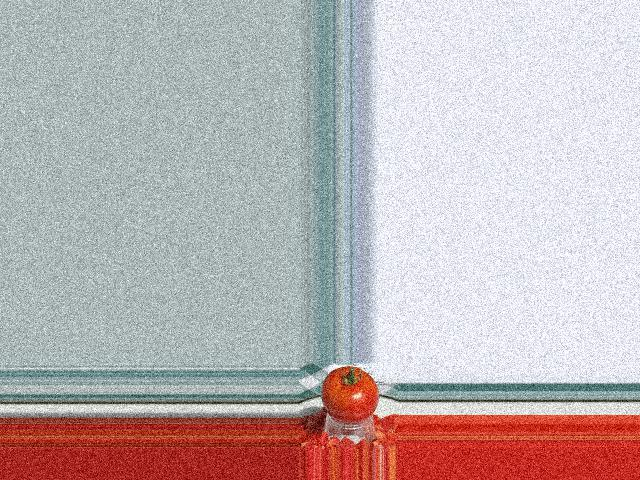tomato: (321, 366, 380, 422)
